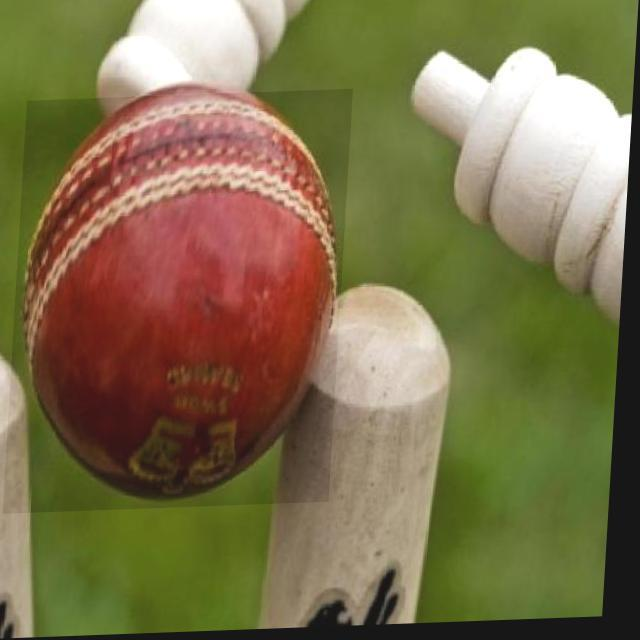-: (9, 92, 354, 514)
